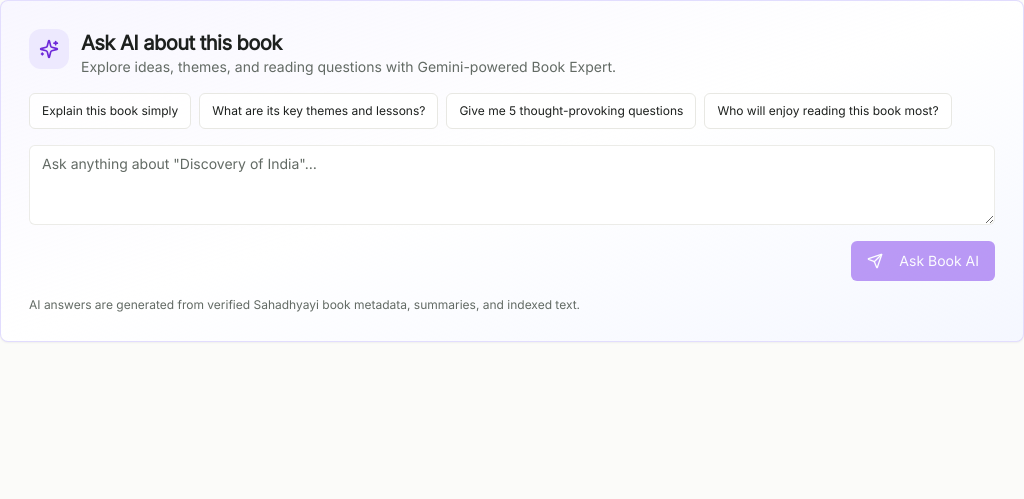
Test: BookAIReader Component › handles clicking a preset prompt button
Click the button "Explain this book simply" at (110, 111), box x1=29 y1=93 x2=191 y2=129
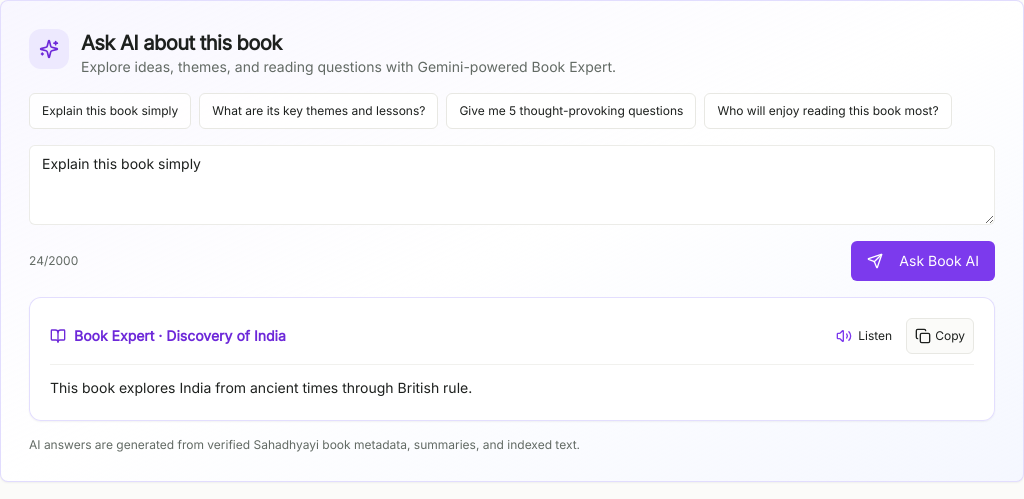
expect the text "explores India from ancient times" is shown: met, box x1=50 y1=379 x2=472 y2=396
